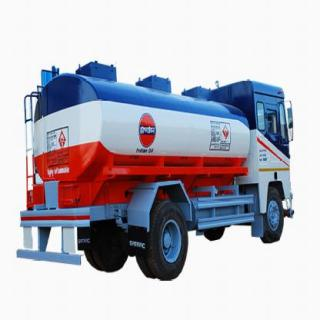Normal_vehicle: (13, 61, 302, 288)
